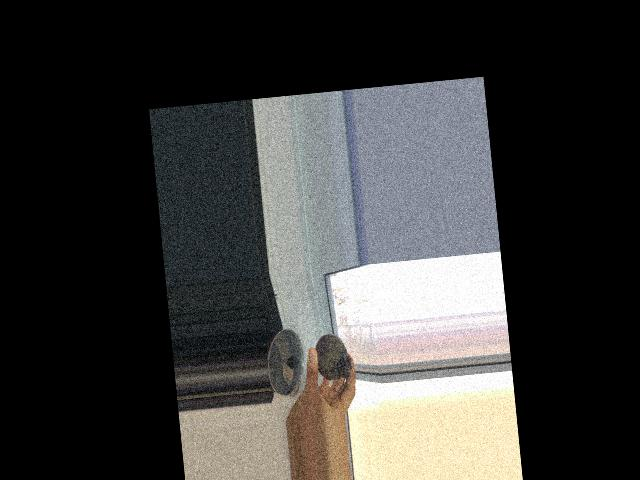beet: (313, 331, 353, 394)
